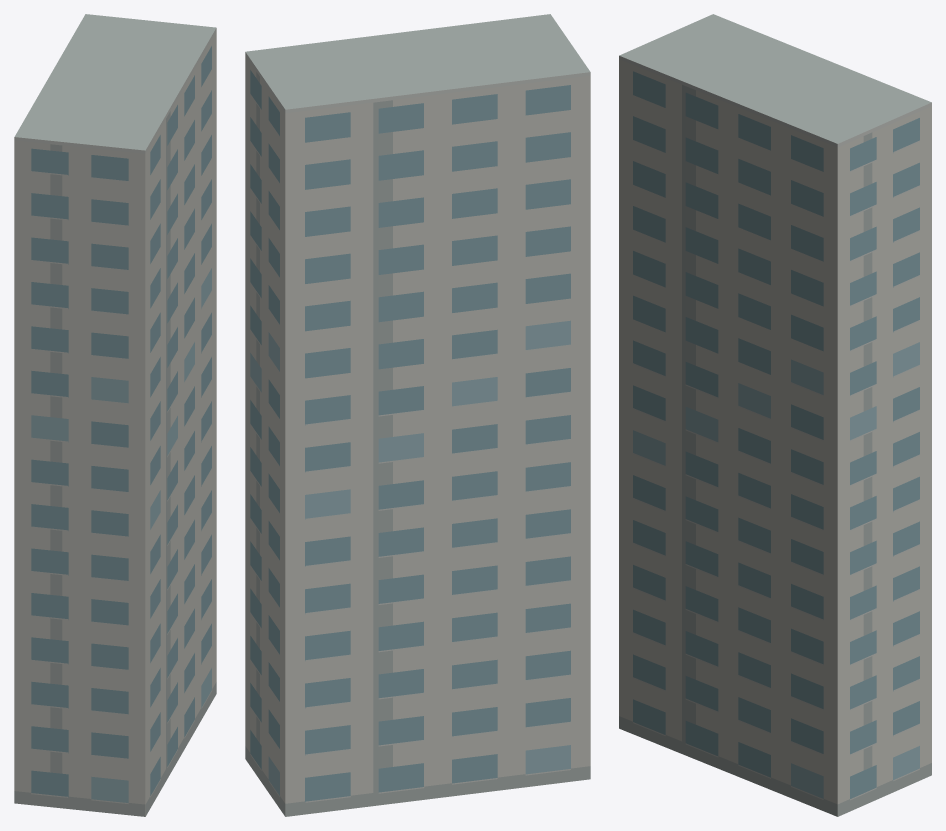
The model's file is residential-eeed4f18-7832-4a8a-b156-8dcbc569db20.glb.
3 views of the same model, side by side, from view 1: azimuth 30°, elevation 25°; view 2: azimuth 150°, elevation 25°; view 3: azimuth 270°, elevation 25° (orthographic). The views are drawn at different scales.
Visible parts, largest first — view 1: residential-eeed4f18-7832-4a8a-b156-8dcbc569db20.tmp; view 2: residential-eeed4f18-7832-4a8a-b156-8dcbc569db20.tmp; view 3: residential-eeed4f18-7832-4a8a-b156-8dcbc569db20.tmp.
Part boxes in pixels (x1,y1,x2,y2): residential-eeed4f18-7832-4a8a-b156-8dcbc569db20.tmp: [14, 14, 216, 816]; residential-eeed4f18-7832-4a8a-b156-8dcbc569db20.tmp: [245, 14, 590, 816]; residential-eeed4f18-7832-4a8a-b156-8dcbc569db20.tmp: [619, 14, 931, 816].
Bounding box in the file's own units: 19.06 × 46 × 19.39.
